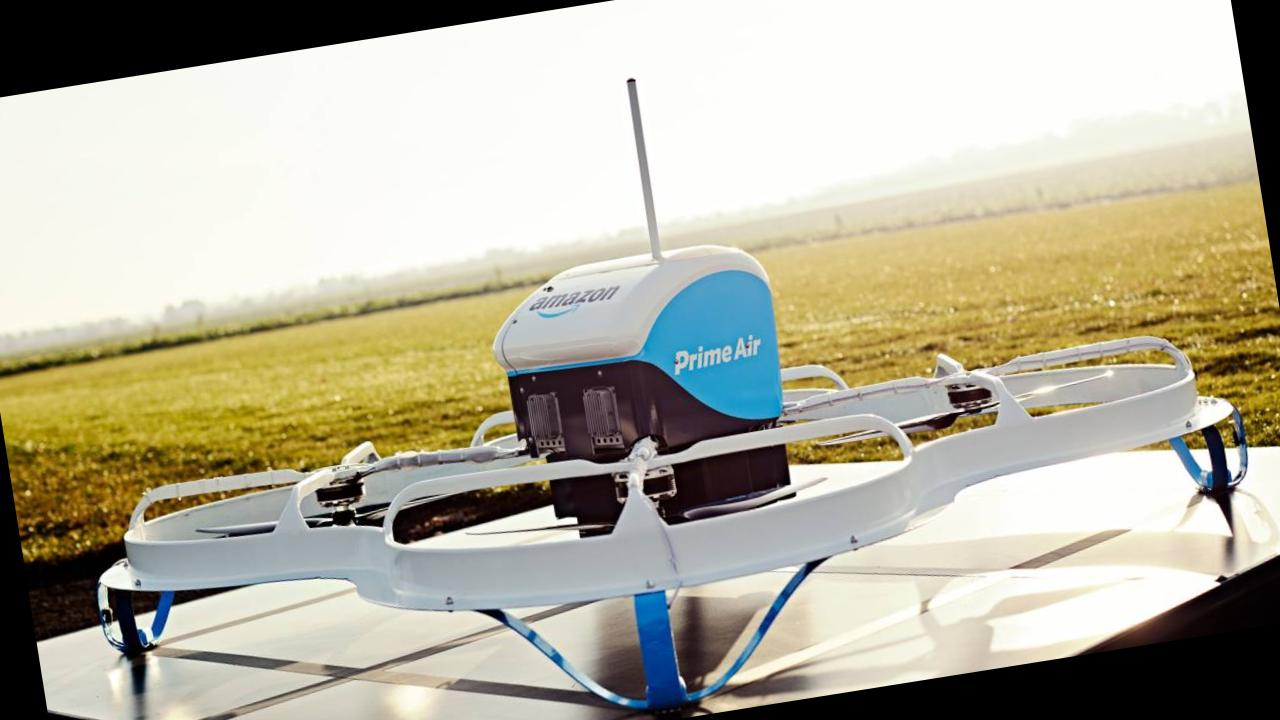drone: (60, 205, 1280, 720)
